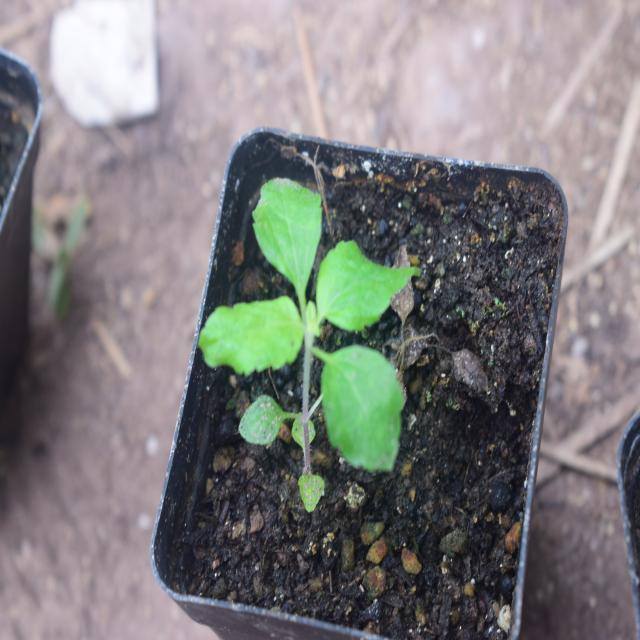billygoat_weed: (189, 174, 405, 494)
